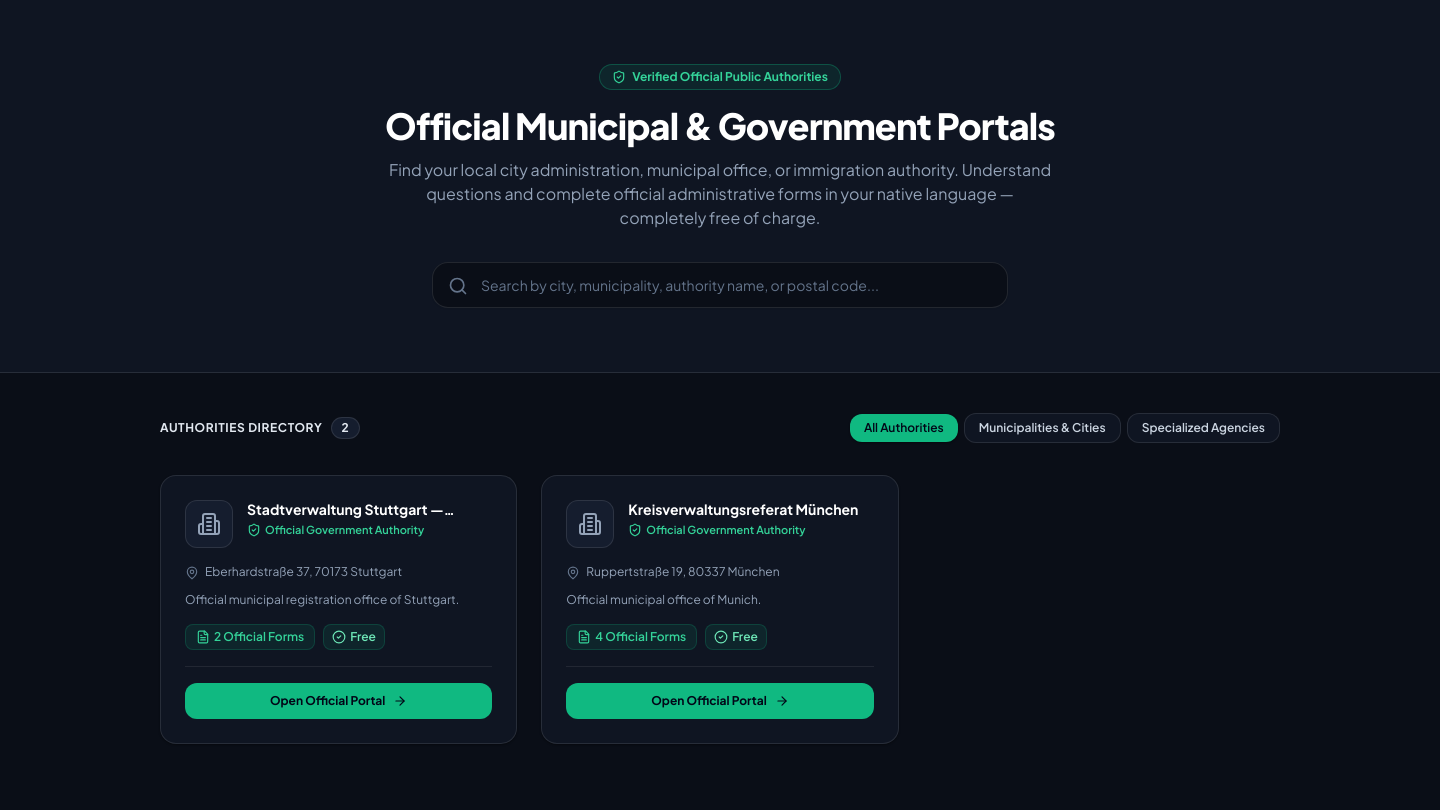
Test case: CitizenDirectory & PublicOrganizationPortal (Phase G3) › renders CitizenDirectory with verified public authorities and filters by keyword
The image size is (1440, 810).
Expected: the heading "Stadtverwaltung Stuttgart — Bürgeramt" is shown, 247,500 -> 444,537
Expected: the heading "Kreisverwaltungsreferat München" is shown, 628,500 -> 858,519
Test search filter
Replace the text in the field with placeholder "Search by city, municipality" with "Stuttgart" at (720, 285), box 432,262 -> 1008,308
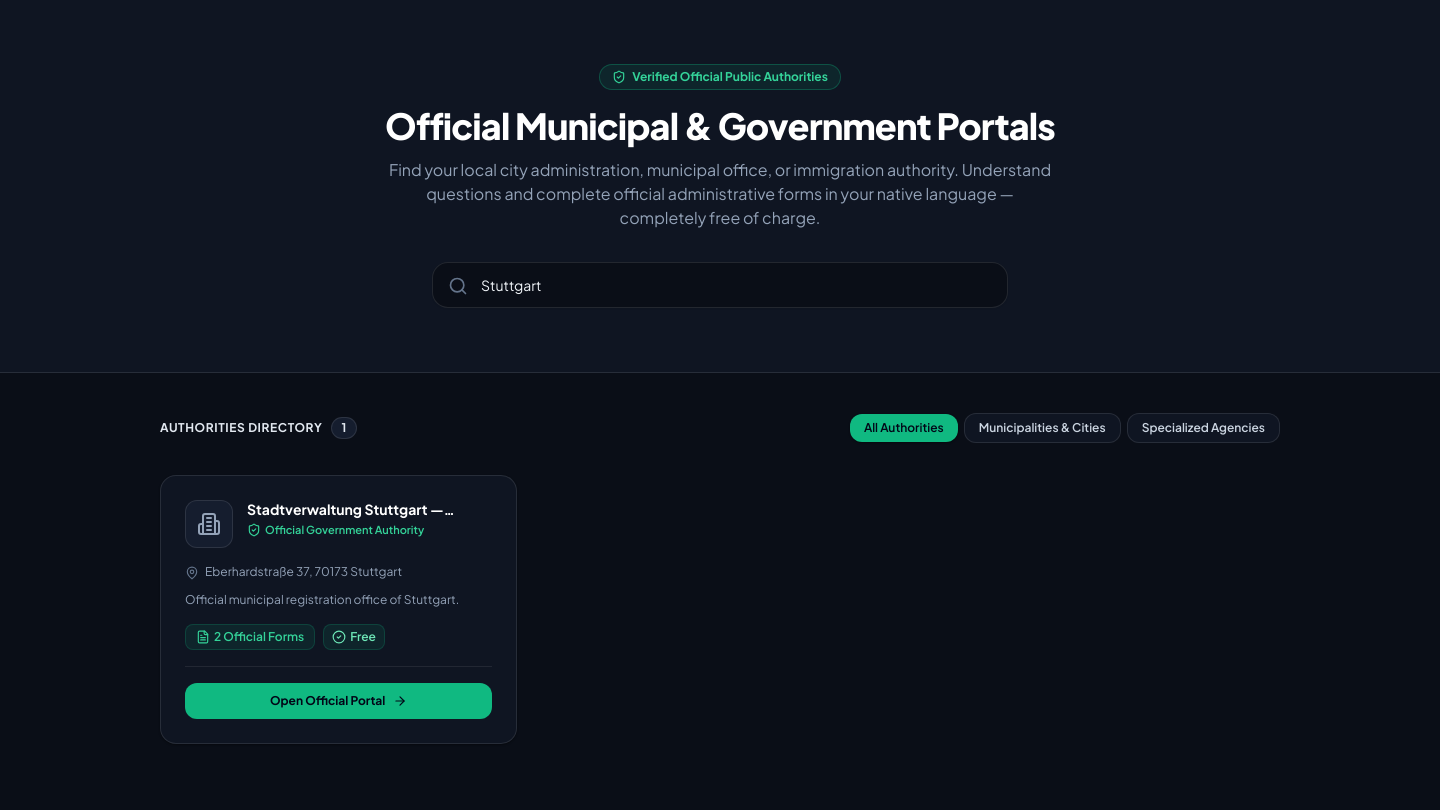
Expected: the heading "Stadtverwaltung Stuttgart — Bürgeramt" is shown, 247,500 -> 444,537
Expected: the heading "Kreisverwaltungsreferat München" is gone
